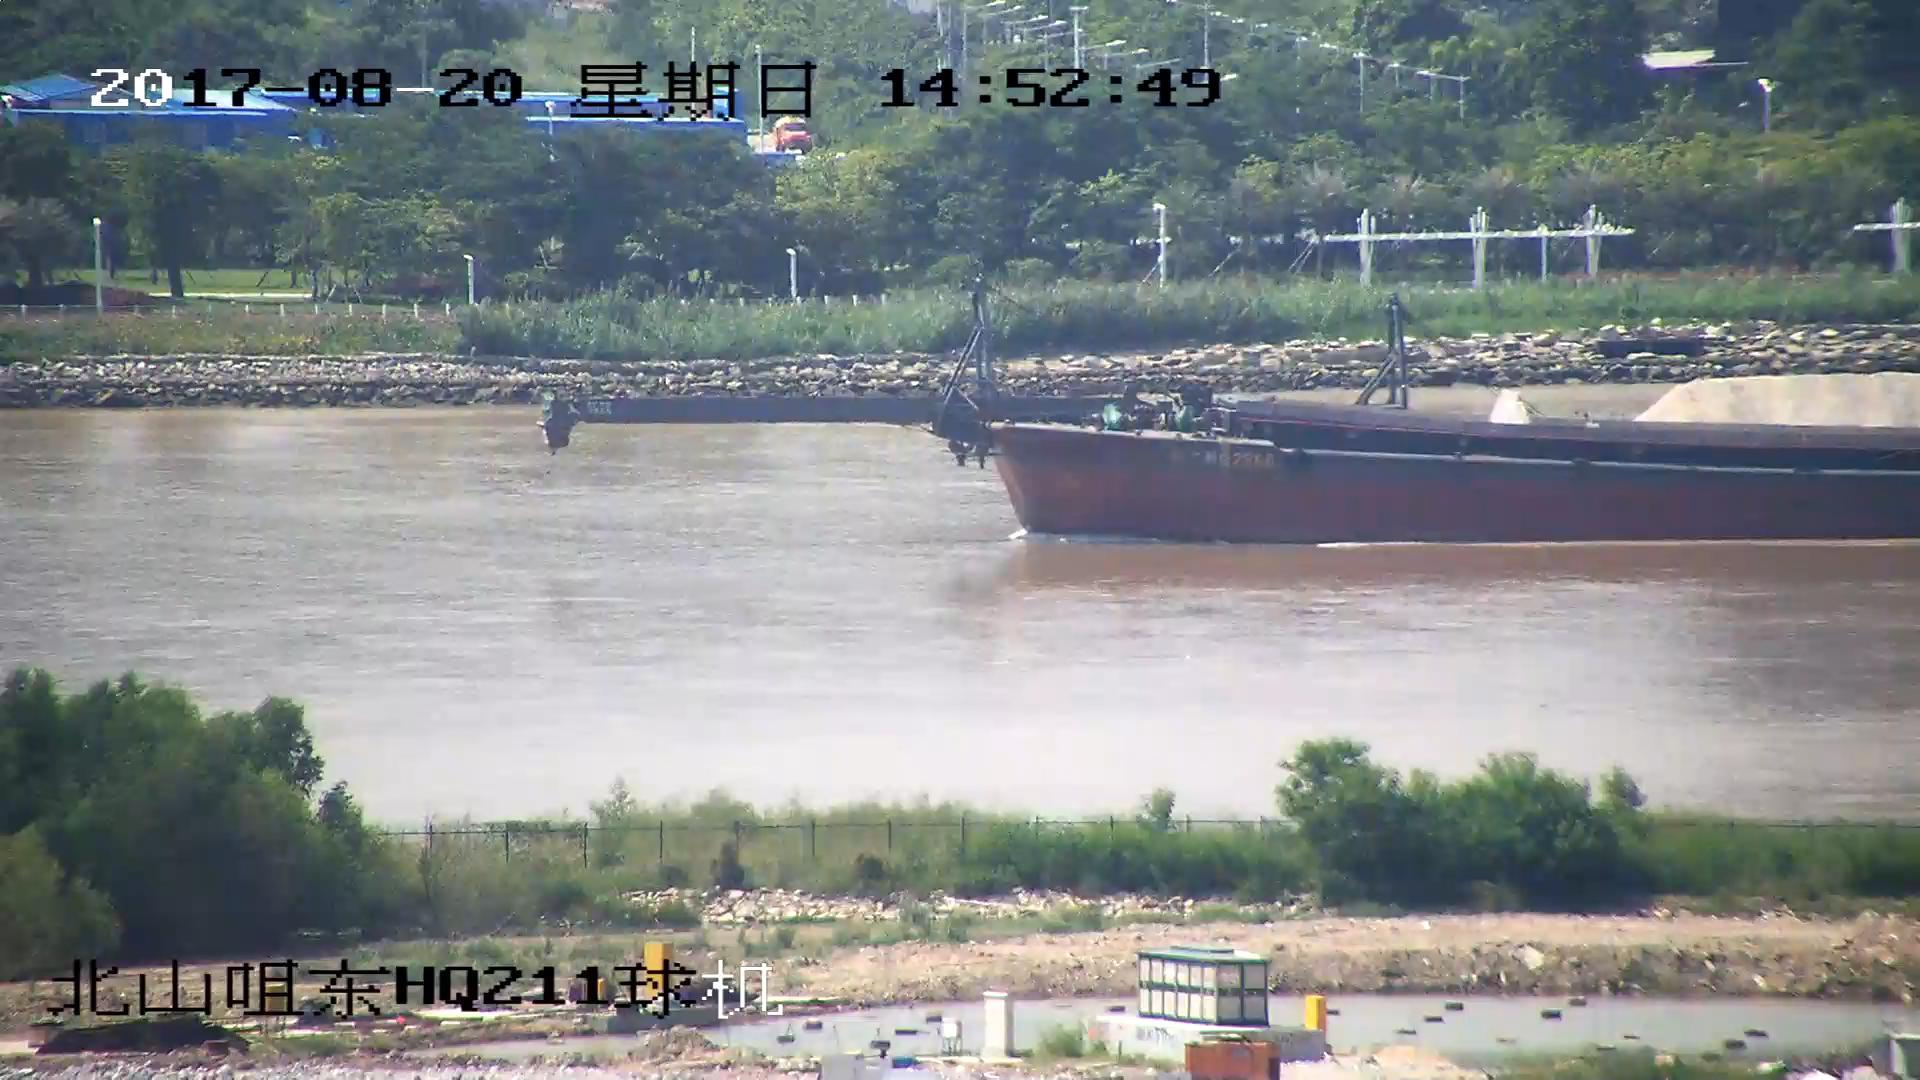Ship: (545, 309, 1920, 539), (1240, 315, 1920, 444)
